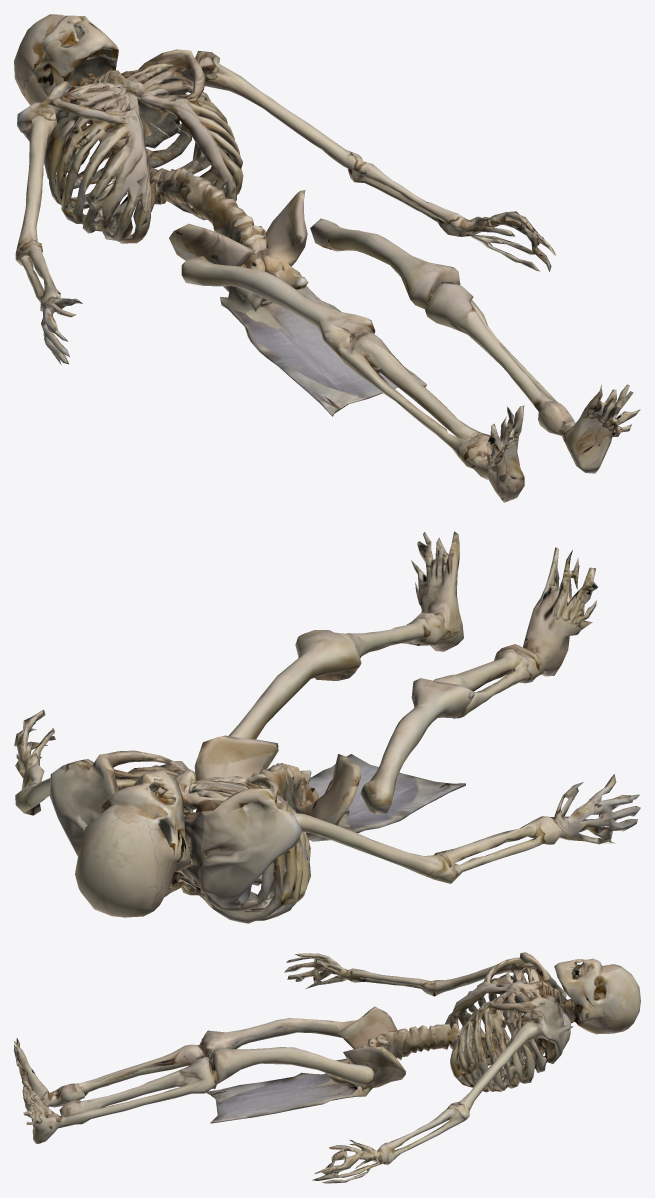
Rendered from human_skeleton.glb.
The picture shows the model from 3 angles, top to bottom: view 1: azimuth 30°, elevation 25°; view 2: azimuth 150°, elevation 25°; view 3: azimuth 270°, elevation 25°; orthographic projection. The views are drawn at different scales.
Visible parts, largest first — view 1: Object_4; view 2: Object_4; view 3: Object_4.
Boxes of the visible parts, left/top/right/bottom form: Object_4: left=14, top=14, right=640, bottom=502; Object_4: left=14, top=531, right=640, bottom=923; Object_4: left=14, top=952, right=640, bottom=1183.
Bounding box in the file's own units: 1.34 × 0.5081 × 2.
Materials: 1 (1 with a texture image).
